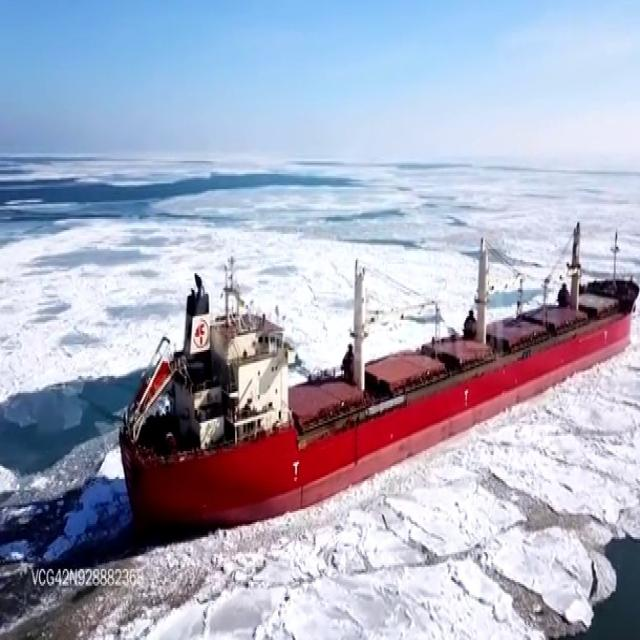cargoship: (122, 230, 635, 502)
